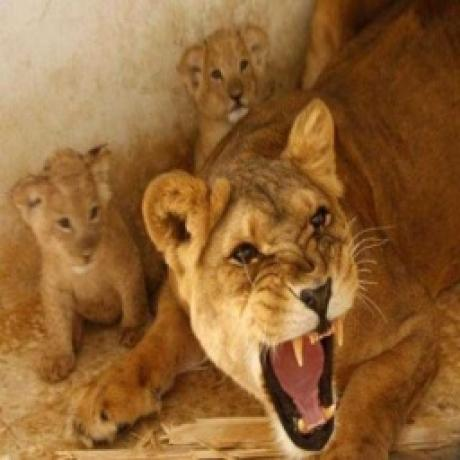Lion: (72, 0, 460, 456), (11, 144, 152, 383), (180, 22, 267, 164)
